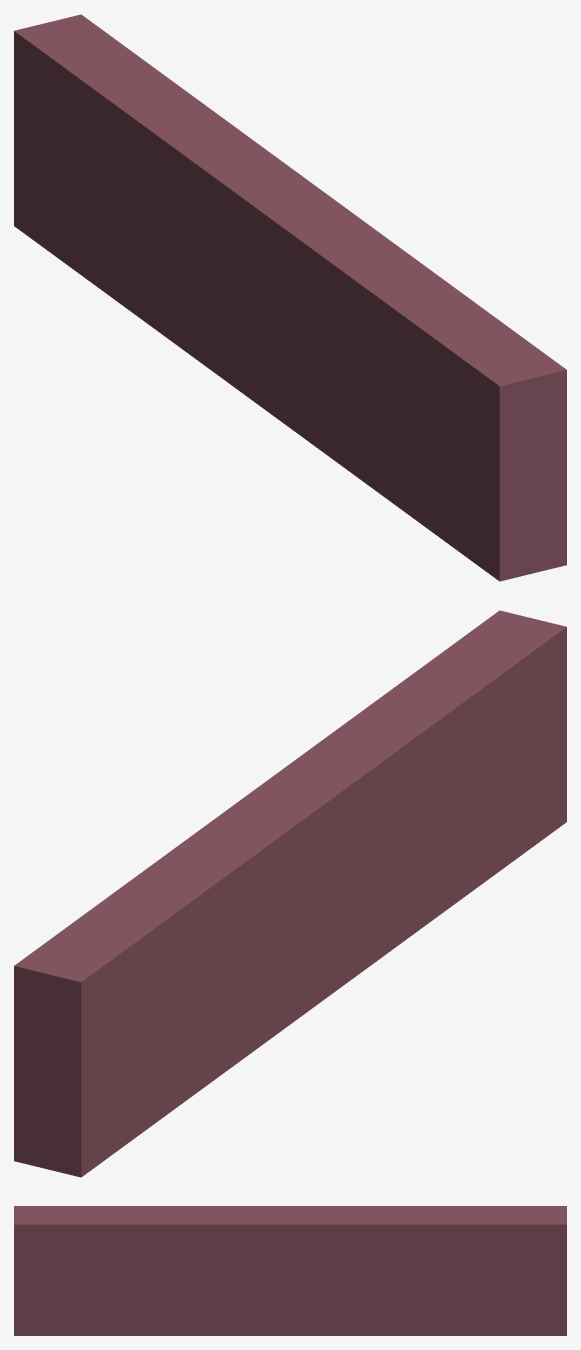
File: Res01_Kitchen_HalfWall.fbx
The picture shows the model from 3 angles, top to bottom: view 1: azimuth 30°, elevation 25°; view 2: azimuth 150°, elevation 25°; view 3: azimuth 270°, elevation 25°; orthographic projection. The views are drawn at different scales.
Parts seen in each view (by area): view 1: Res01_Kitchen_HalfWall; view 2: Res01_Kitchen_HalfWall; view 3: Res01_Kitchen_HalfWall.
Boxes of the visible parts, x1,y1,x2,y2 form: Res01_Kitchen_HalfWall: [14, 14, 566, 581]; Res01_Kitchen_HalfWall: [14, 610, 566, 1177]; Res01_Kitchen_HalfWall: [14, 1206, 566, 1335].
Bounding box in the file's own units: 40 × 111 × 500.
